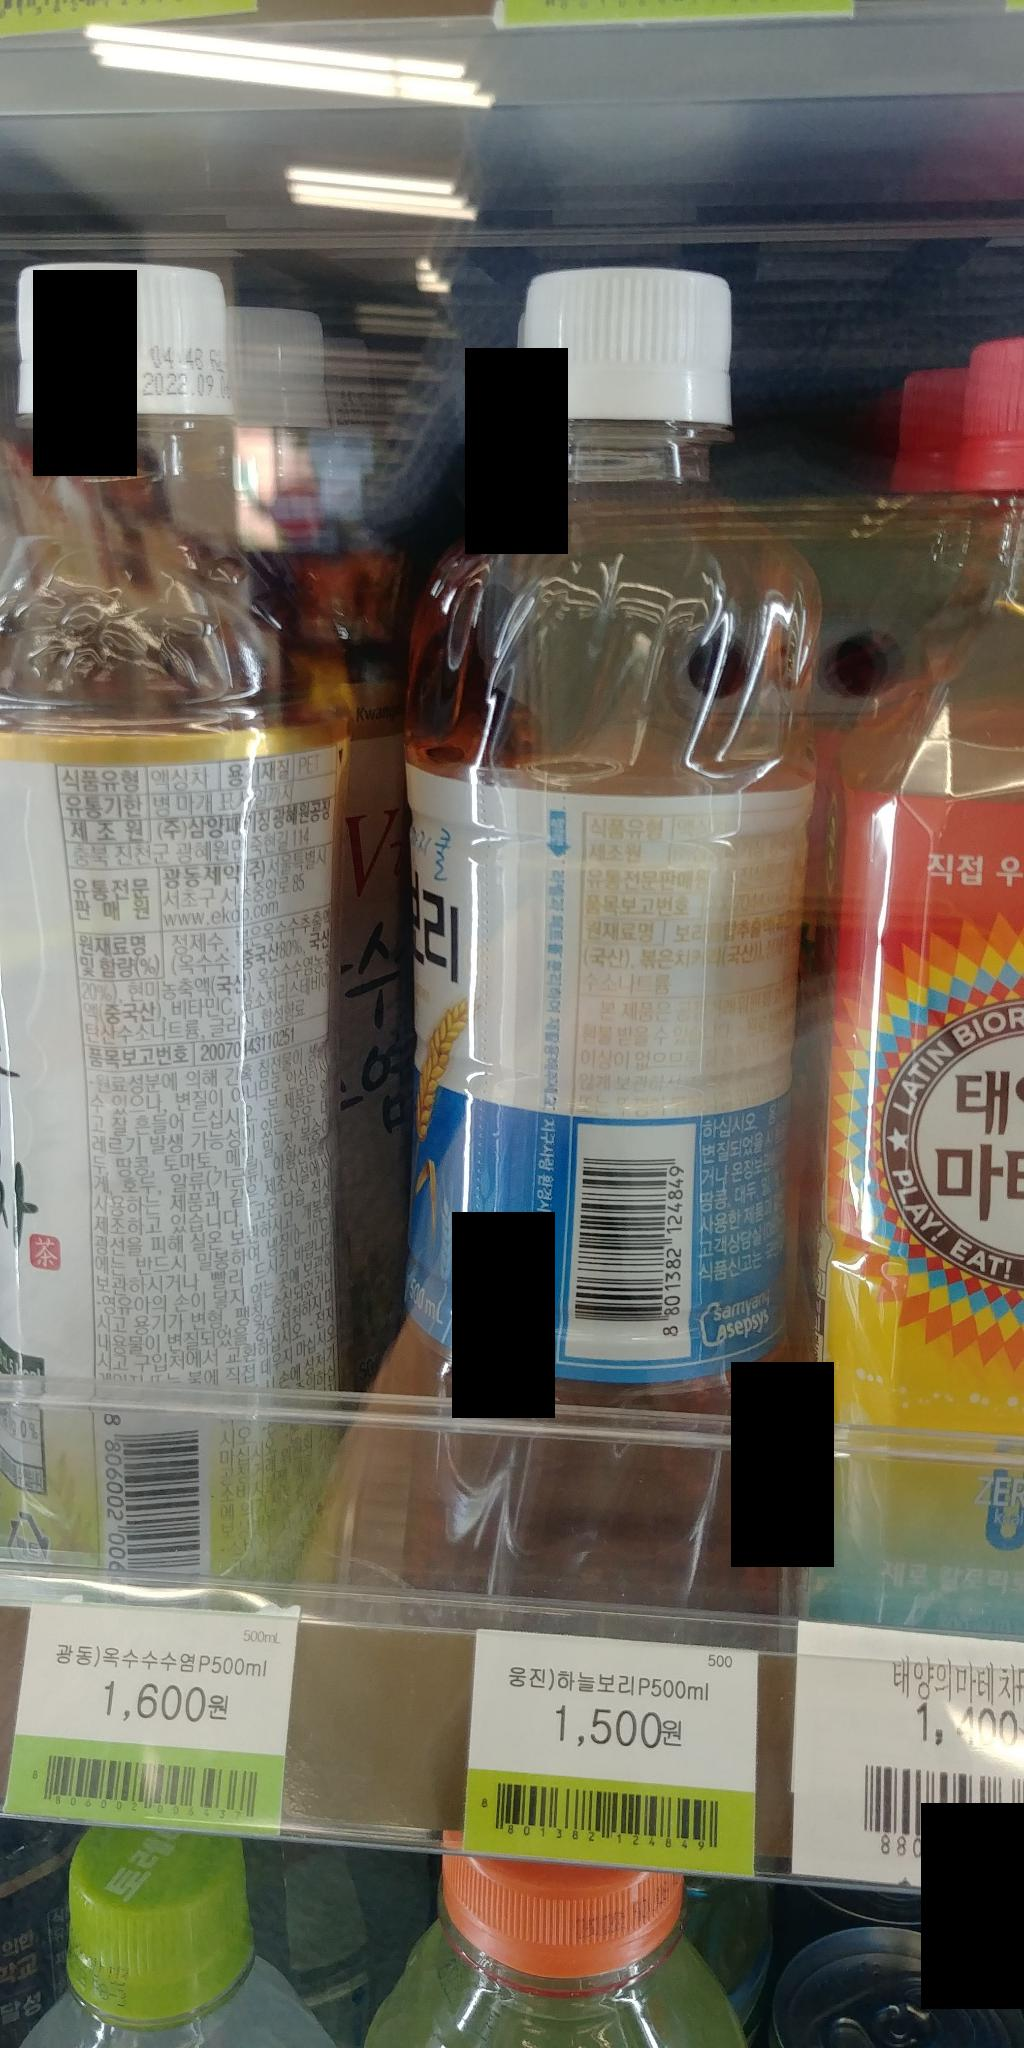haneulbori: (392, 212, 825, 1603)
oksususuyeomcha: (0, 231, 360, 1590)
